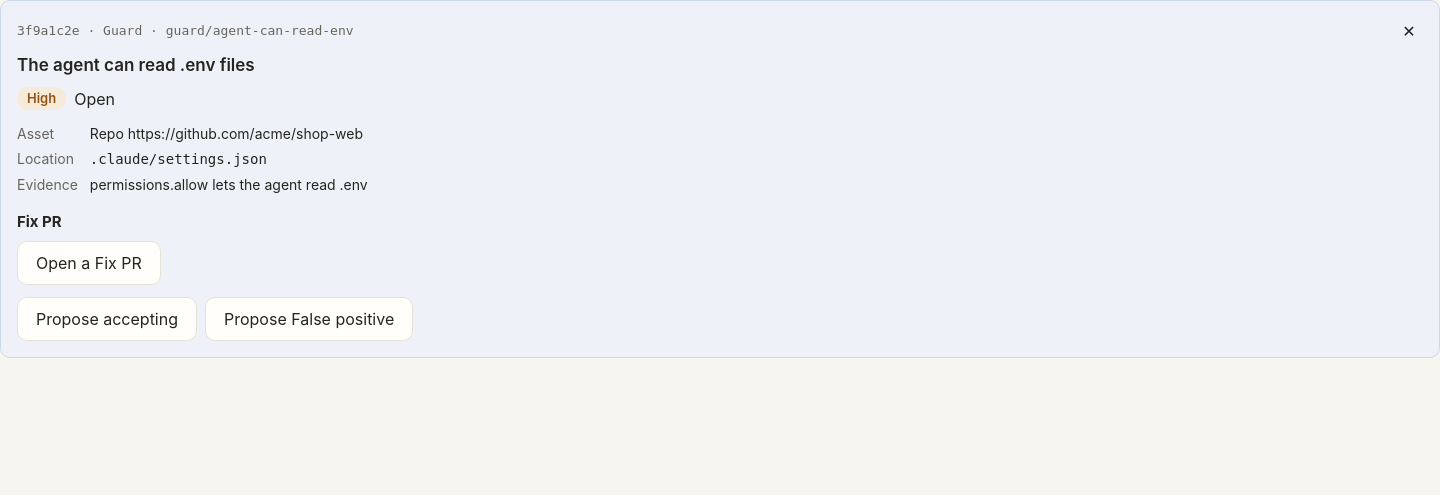
opening a Fix PR › while the POST runs, the button is disabled and busy, and a second click sends nothing
Click the button "Open a Fix PR".
click(89, 263)  # box [17,241,161,285]
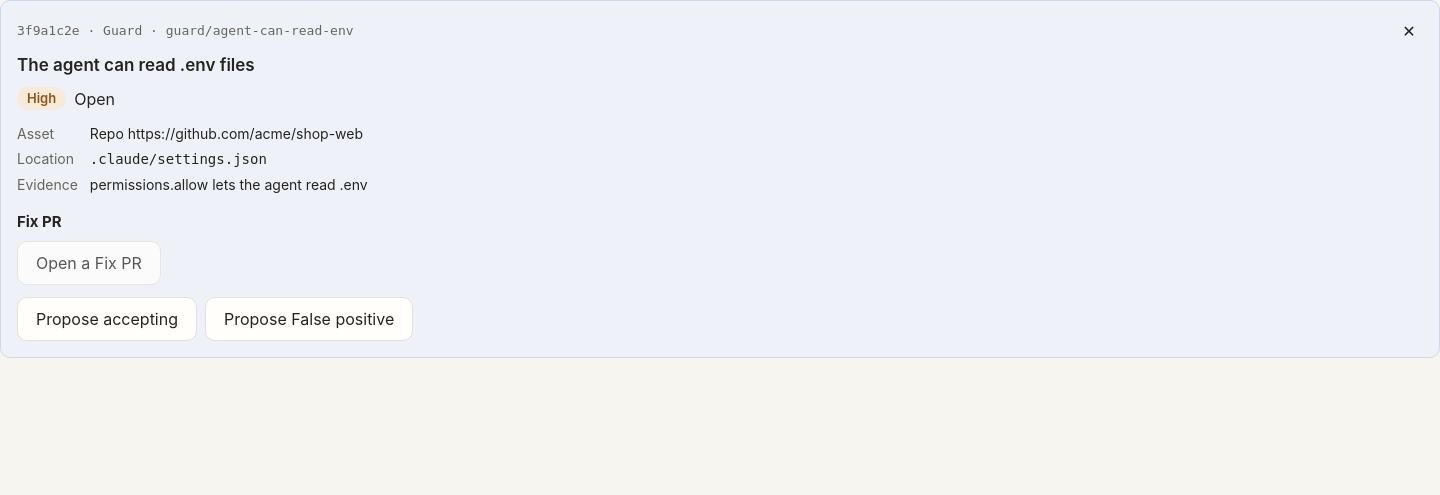
Expected: the button "Open a Fix PR" is disabled
Click the button "Open a Fix PR".
click(89, 263)  # box [17,241,161,285]
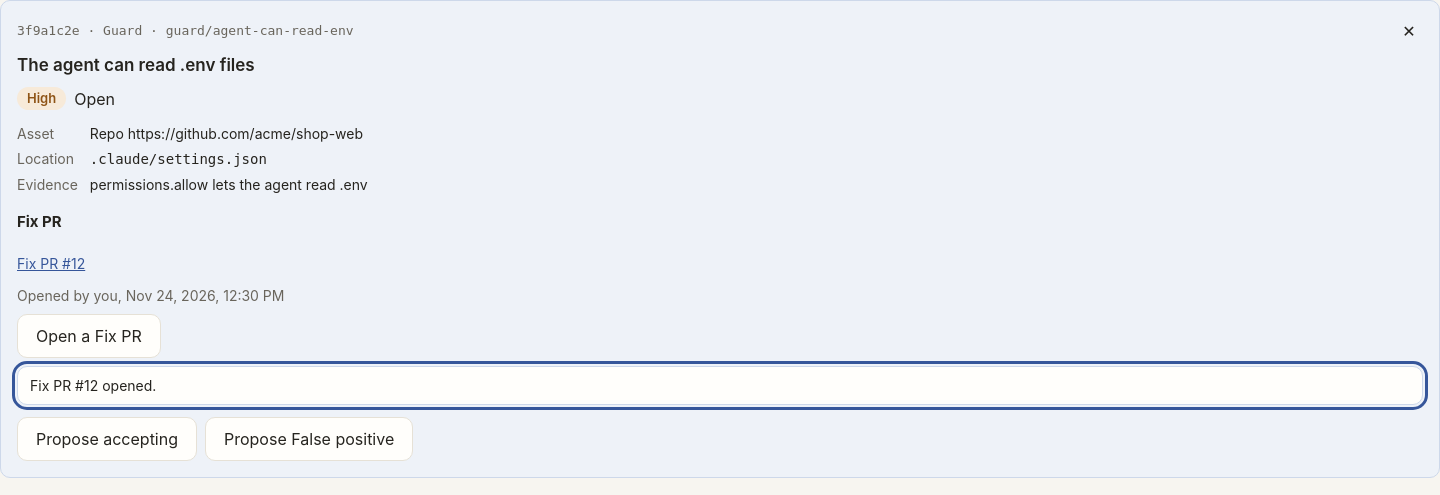
Expected: the text "Fix PR #12 opened." is shown, [17,366,1423,405]
Expected: the button "Open a Fix PR" is enabled, [17,314,161,358]
